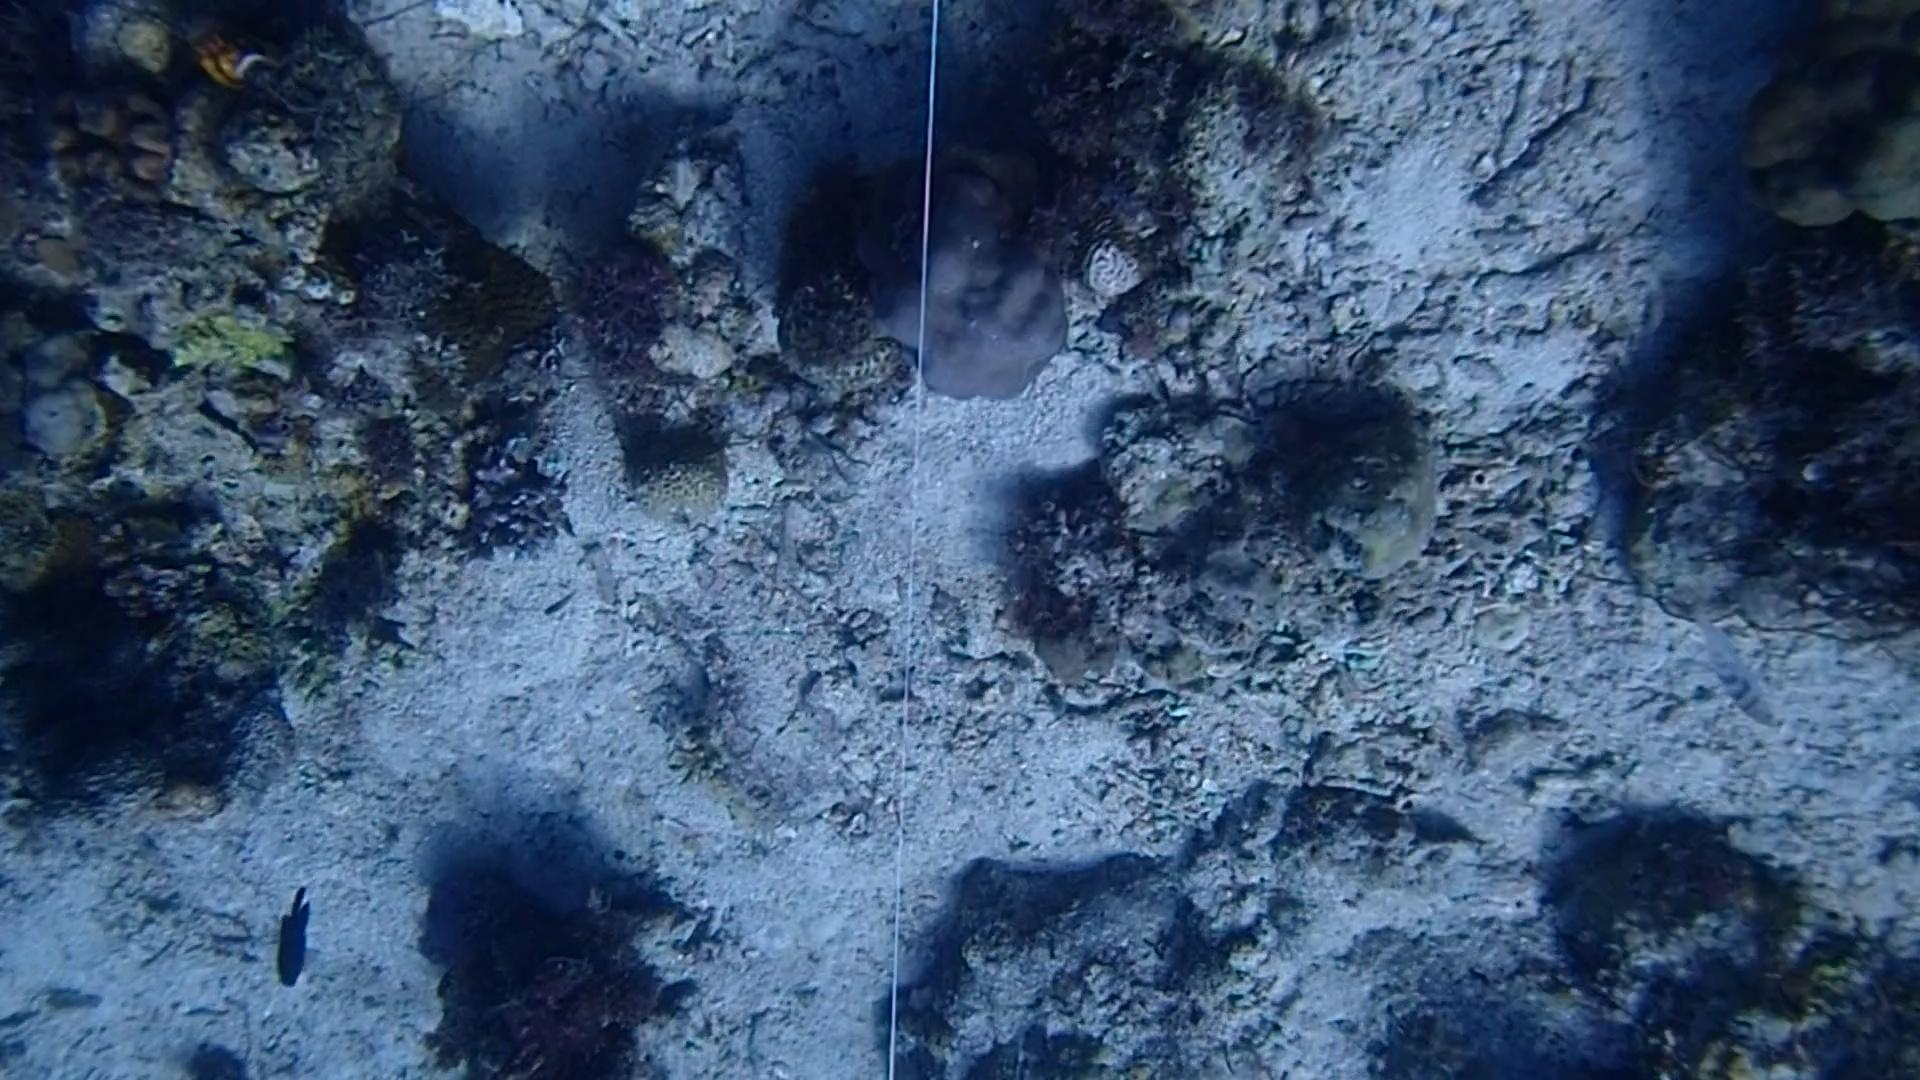Dark Fish: (262, 882, 324, 998)
Light Fish w Back Stripes: (1687, 595, 1800, 740)
